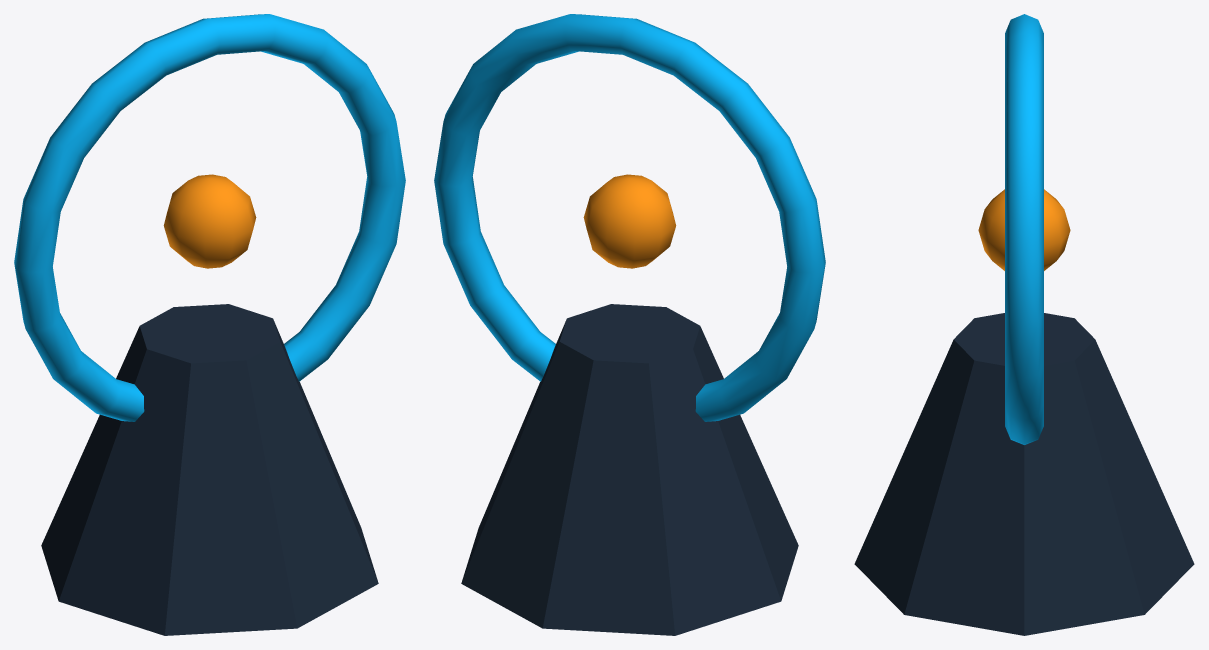
File: circuit_hologram_checkpoint_lod1.obj
The picture shows the model from 3 angles, left to right: view 1: azimuth 30°, elevation 25°; view 2: azimuth 150°, elevation 25°; view 3: azimuth 270°, elevation 25°; orthographic projection. The views are drawn at different scales.
Parts seen in each view (by area): view 1: race_checkpoint_lod1_base_M_gunmetal, race_checkpoint_lod1_ring_M_cyan, race_checkpoint_lod1_core_M_gold; view 2: race_checkpoint_lod1_base_M_gunmetal, race_checkpoint_lod1_ring_M_cyan, race_checkpoint_lod1_core_M_gold; view 3: race_checkpoint_lod1_base_M_gunmetal, race_checkpoint_lod1_ring_M_cyan, race_checkpoint_lod1_core_M_gold.
Part boxes in pixels (x1,y1,x2,y2): race_checkpoint_lod1_base_M_gunmetal: [41, 304, 378, 635]; race_checkpoint_lod1_ring_M_cyan: [14, 14, 405, 421]; race_checkpoint_lod1_core_M_gold: [163, 174, 256, 268]; race_checkpoint_lod1_base_M_gunmetal: [461, 304, 798, 635]; race_checkpoint_lod1_ring_M_cyan: [434, 14, 825, 421]; race_checkpoint_lod1_core_M_gold: [583, 174, 676, 268]; race_checkpoint_lod1_base_M_gunmetal: [854, 313, 1194, 635]; race_checkpoint_lod1_ring_M_cyan: [1005, 14, 1043, 444]; race_checkpoint_lod1_core_M_gold: [978, 189, 1070, 270].
Bounding box in the file's own units: 1.23 × 1.65 × 0.96.
